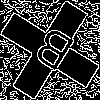B: (25, 25, 78, 81)
